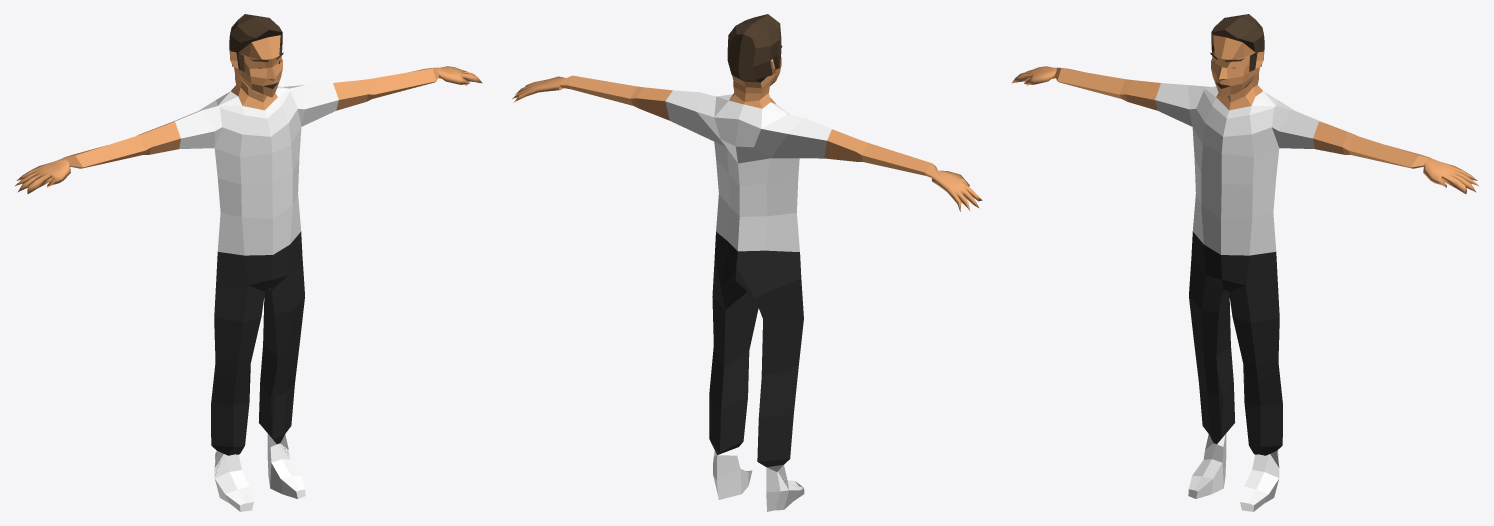
File: karakterModeli.fbx
3 renders of one model, left to right at view 1: azimuth 30°, elevation 25°; view 2: azimuth 150°, elevation 25°; view 3: azimuth 330°, elevation 25°, orthographic.
Parts seen in each view (by area): view 1: Plane; view 2: Plane; view 3: Plane.
Part boxes in pixels (box(x1,y1,x2,y2)): Plane: box(15, 14, 482, 511); Plane: box(512, 14, 982, 511); Plane: box(1011, 14, 1478, 511).
Size of the model in its own units: 985 by 965 by 140.
1 material, 1 textured.
